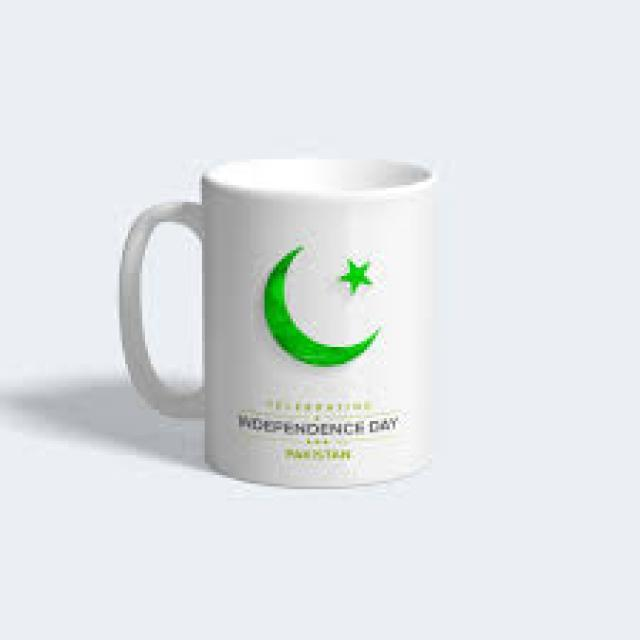taza: (107, 137, 456, 507)
